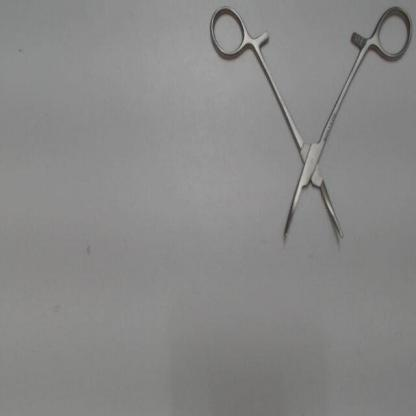Crile Artery Forceps: (196, 1, 415, 251)
